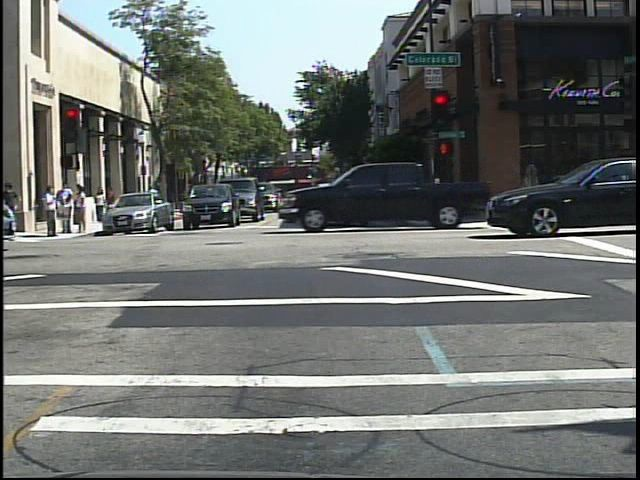person: (146, 180, 165, 219), (94, 188, 108, 225), (146, 180, 162, 212)
